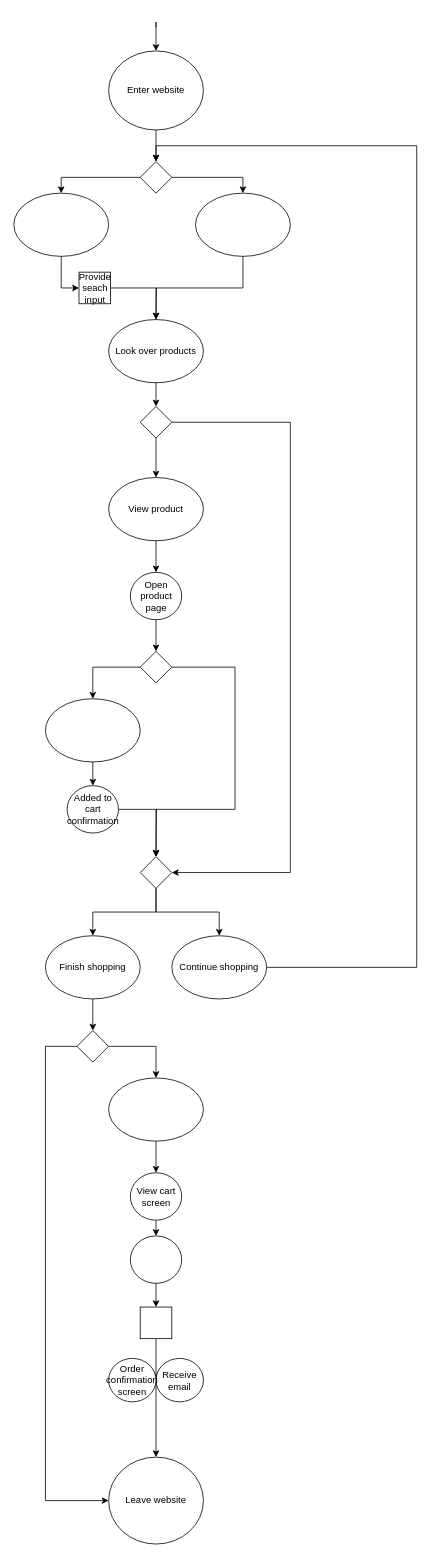
This 437x1558 diagram has some shape labels left out. The centre of each missing label's shape, as x and y in pixels:
"Add to cart" belongs at pixel 92 730.
"Checkout" belongs at pixel 155 1109.
"Explore products" belongs at pixel 242 224.
"Input payment info" belongs at pixel 155 1322.
"Search products" belongs at pixel 61 224.
"View payment screen" belongs at pixel 156 1259.
